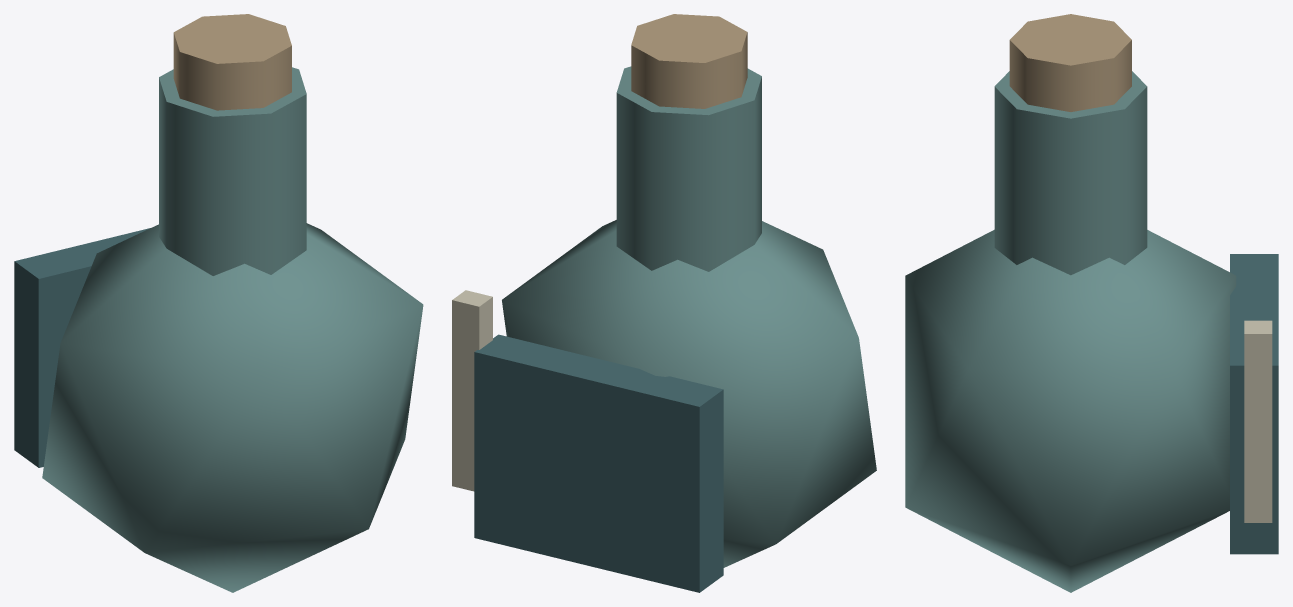
Rendered from spread-portable-flask-42.fbx.
3 views of the same model, side by side, from view 1: azimuth 30°, elevation 25°; view 2: azimuth 150°, elevation 25°; view 3: azimuth 270°, elevation 25° (orthographic).
Parts seen in each view (by area): view 1: spread-portable-flask-42__Geometry; view 2: spread-portable-flask-42__Geometry; view 3: spread-portable-flask-42__Geometry.
Part boxes in pixels (x1,y1,x2,y2): spread-portable-flask-42__Geometry: (14,14,423,592); spread-portable-flask-42__Geometry: (452,14,876,592); spread-portable-flask-42__Geometry: (905,14,1278,592).
Bounding box in the file's own units: 0.2862 × 0.4395 × 0.2686.
